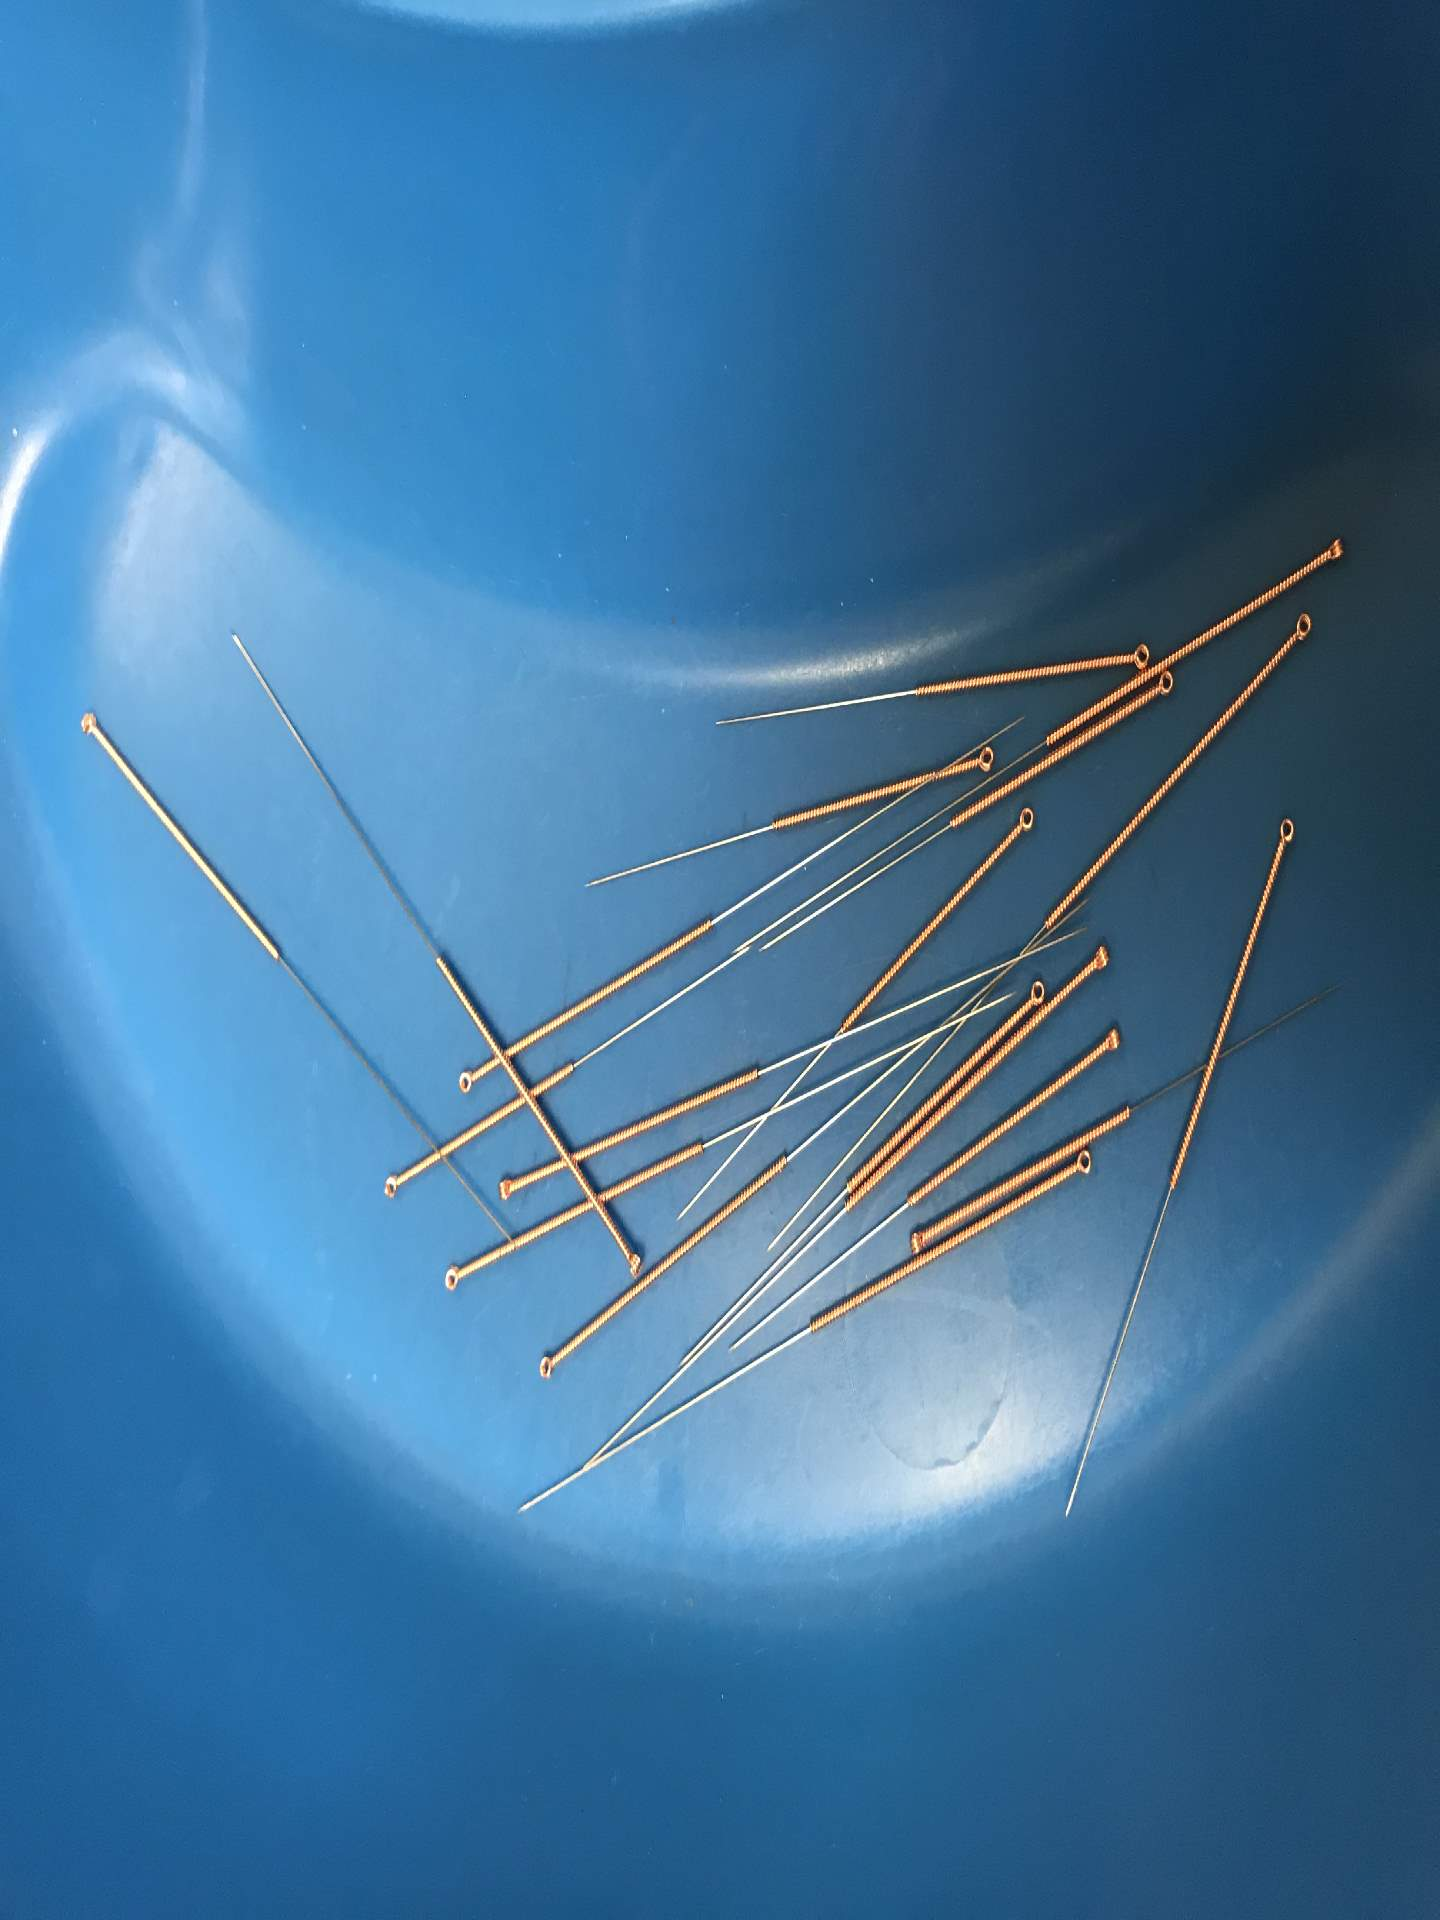needle: (1286, 605, 1319, 649), (451, 1061, 483, 1101), (71, 703, 103, 742), (377, 1166, 407, 1206), (1088, 933, 1118, 974), (968, 739, 1000, 777), (1271, 812, 1299, 853), (1094, 1019, 1125, 1055), (1317, 531, 1349, 565), (1122, 636, 1153, 673), (1010, 801, 1039, 839), (490, 1170, 519, 1206), (1069, 1144, 1098, 1181), (619, 1243, 646, 1281), (436, 1258, 464, 1293), (532, 1347, 560, 1383), (1024, 975, 1050, 1011), (905, 1223, 929, 1256), (1156, 667, 1178, 698)
